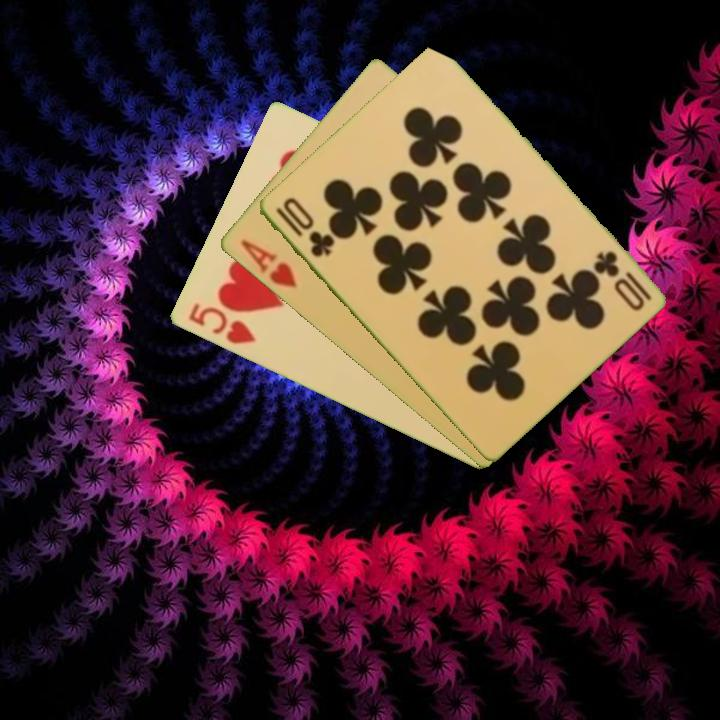10c: (271, 193, 337, 261), (590, 247, 654, 314)
5h: (184, 300, 258, 347)
Ah: (236, 236, 299, 291)
